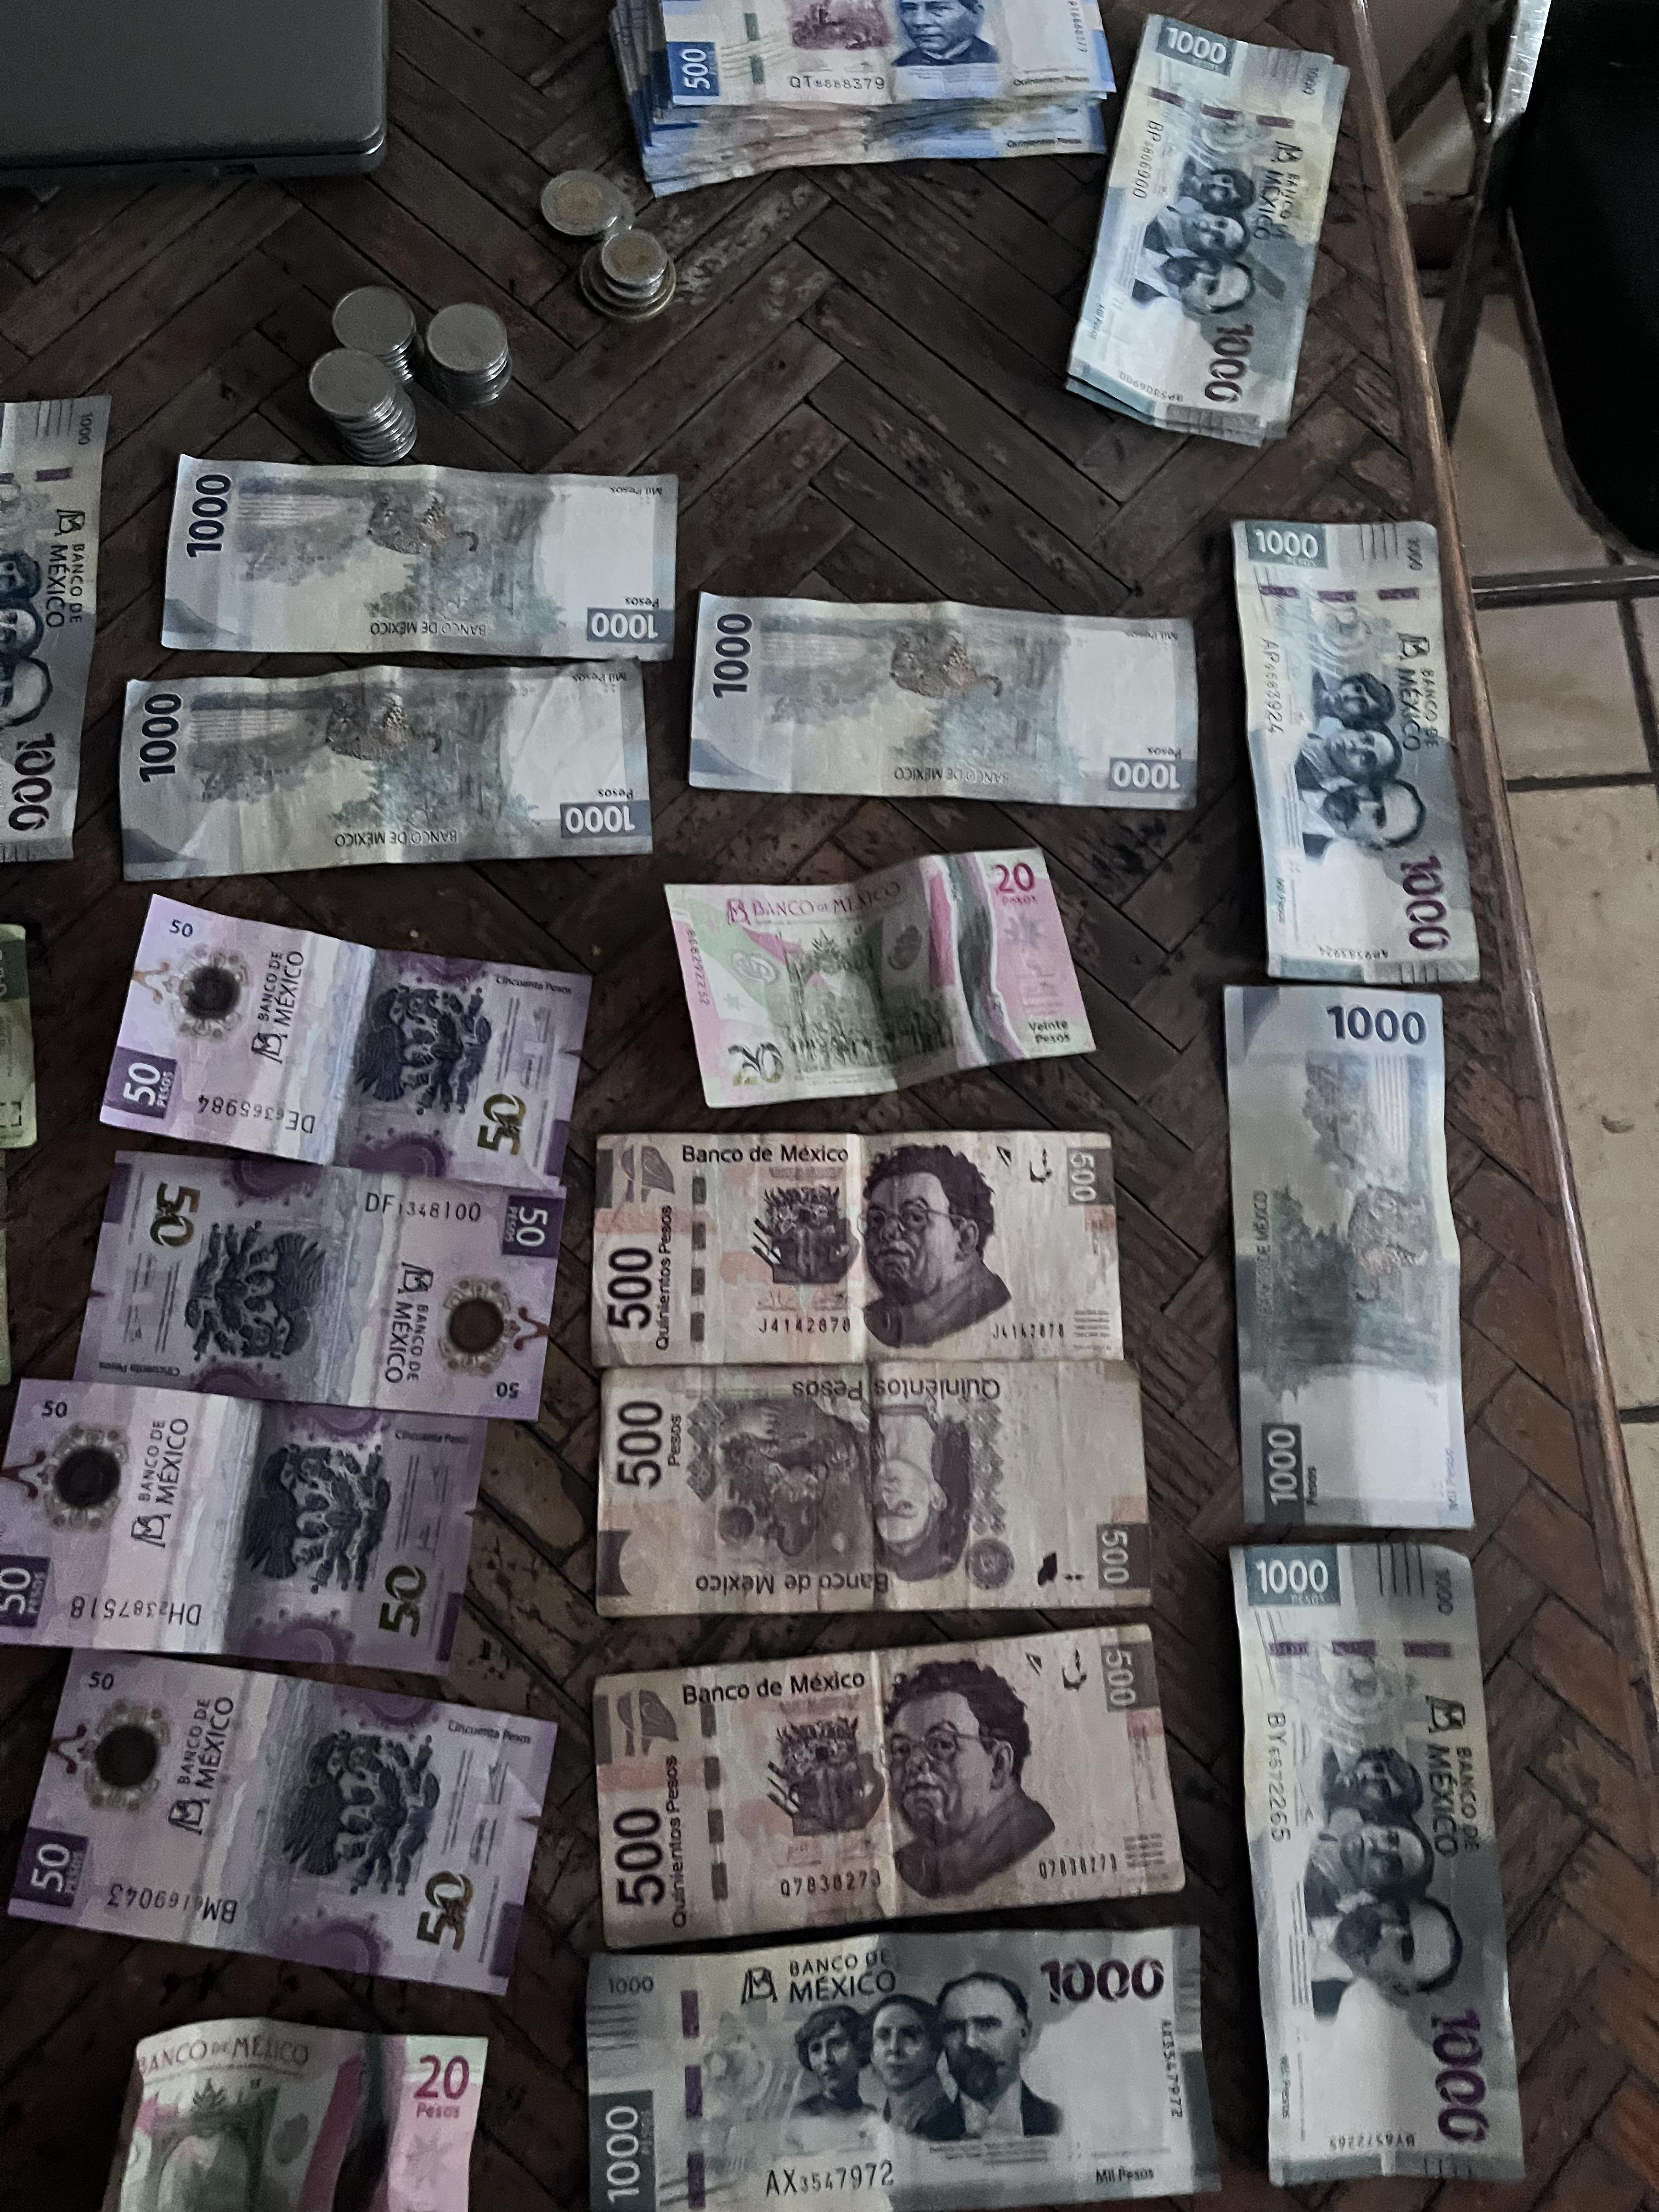1000: (1230, 1529, 1532, 2196), (584, 1909, 1222, 2212), (1209, 970, 1488, 1536), (101, 639, 653, 904), (1054, 12, 1361, 469), (674, 583, 1209, 829), (1229, 489, 1493, 982), (134, 441, 687, 671), (0, 388, 112, 862)
20: (650, 852, 1115, 1109), (101, 2010, 491, 2212)
50: (0, 1635, 561, 1991), (0, 1364, 502, 1681), (84, 888, 584, 1197), (68, 1141, 551, 1421)
500: (580, 1616, 1195, 1940), (580, 1350, 1155, 1625), (577, 1129, 1126, 1371)
500 nuevo: (648, 0, 1107, 185)
